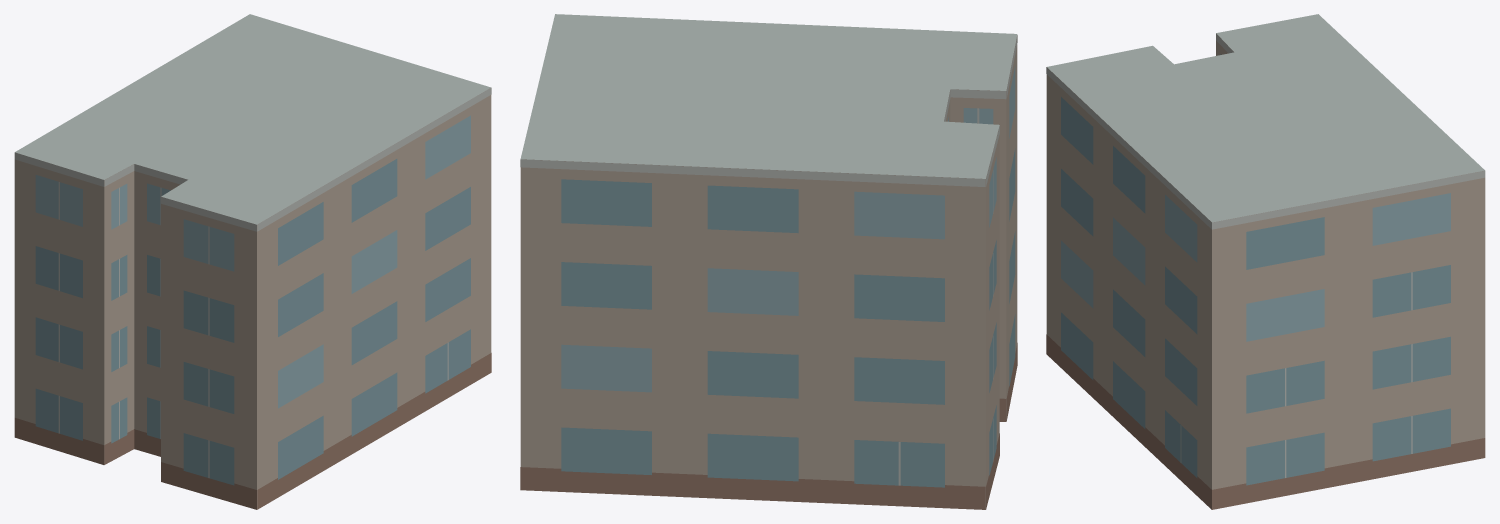
Rendered from survey-upis-32809058.glb.
The picture shows the model from 3 angles, left to right: view 1: azimuth 30°, elevation 25°; view 2: azimuth 150°, elevation 25°; view 3: azimuth 270°, elevation 25°; orthographic projection. The views are drawn at different scales.
Parts seen in each view (by area): view 1: survey-upis-32809058.tmp; view 2: survey-upis-32809058.tmp; view 3: survey-upis-32809058.tmp.
Part boxes in pixels (box(x1,y1,x2,y2)): survey-upis-32809058.tmp: box(14, 14, 491, 509); survey-upis-32809058.tmp: box(520, 14, 1017, 509); survey-upis-32809058.tmp: box(1046, 14, 1485, 509).
Bounding box in the file's own units: 15.26 × 9.8 × 13.57.
